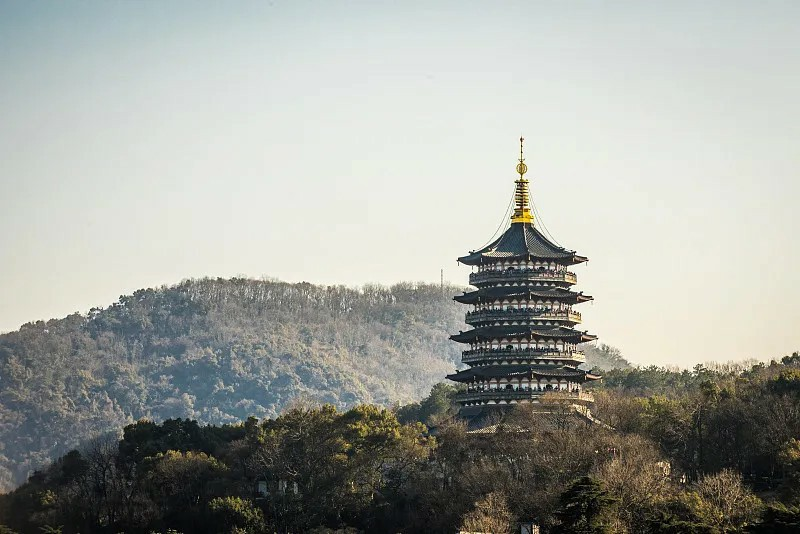Leifeng: (446, 133, 613, 438)
